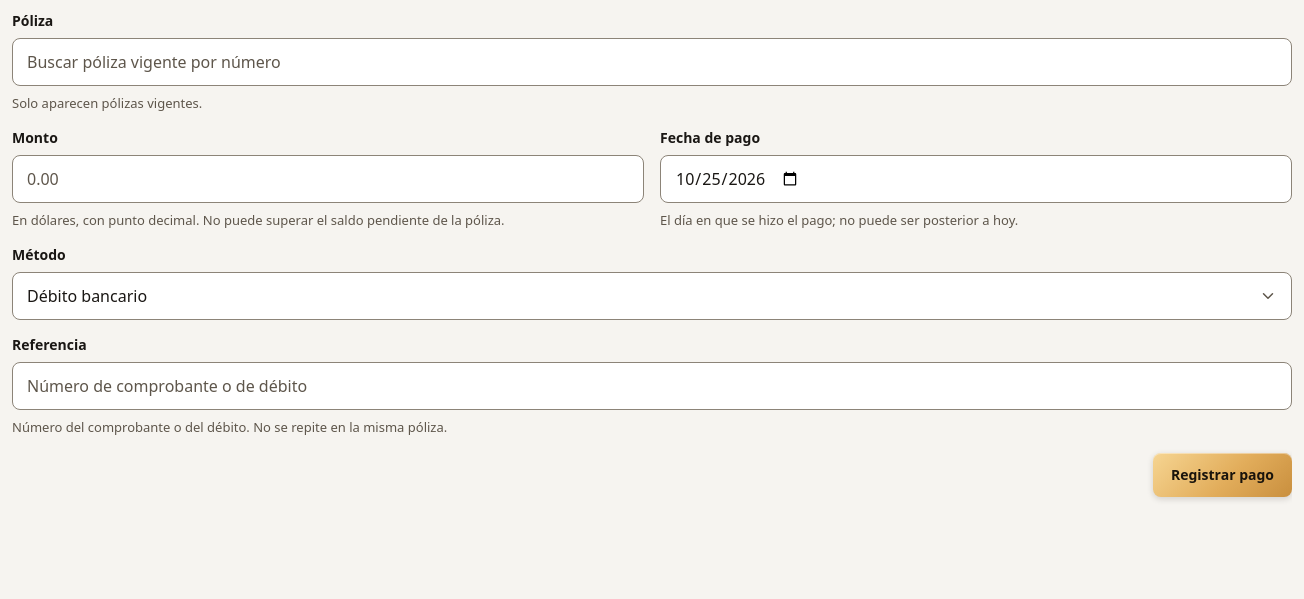
Test: FormularioPago (HU-16) › cada campo enlaza su ayuda y, con error, también el error
Expected: the text "Solo aparecen pólizas vigentes." is shown, [12, 94, 202, 112]
Expected: the text "El día en que se hizo el pago; no puede ser posterior a hoy." is shown, [660, 211, 1018, 229]
Click the button "Registrar pago" at (1222, 475), box [1153, 453, 1292, 497]
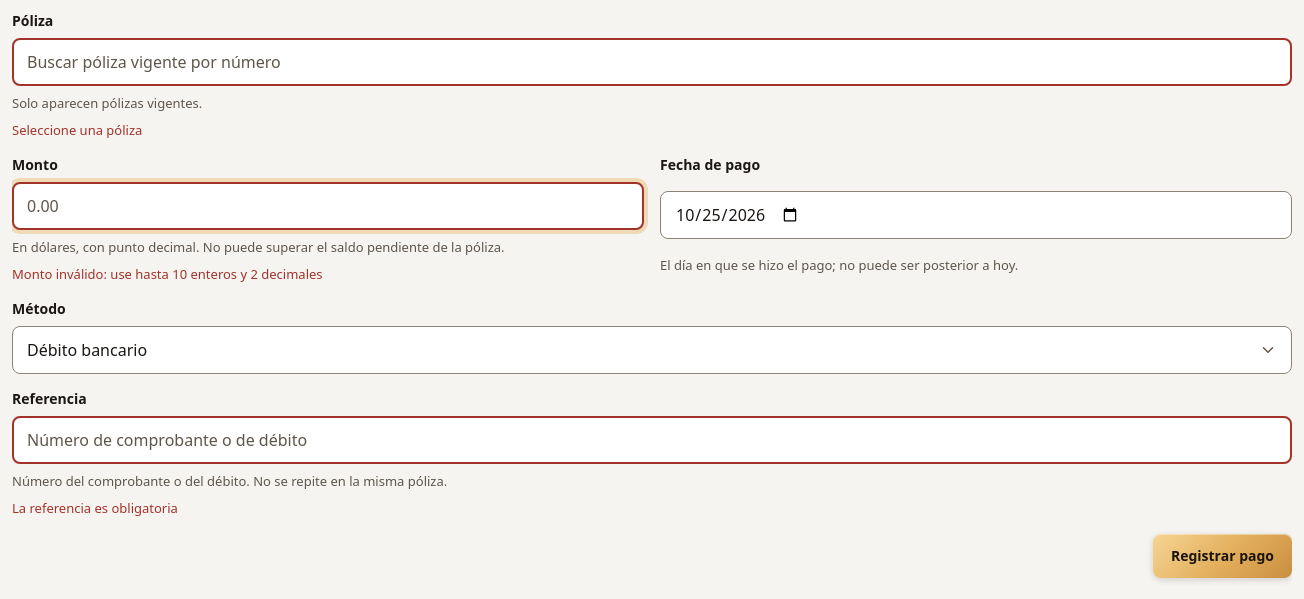
Now the text "La referencia es obligatoria" is shown, box [12, 499, 178, 517]
